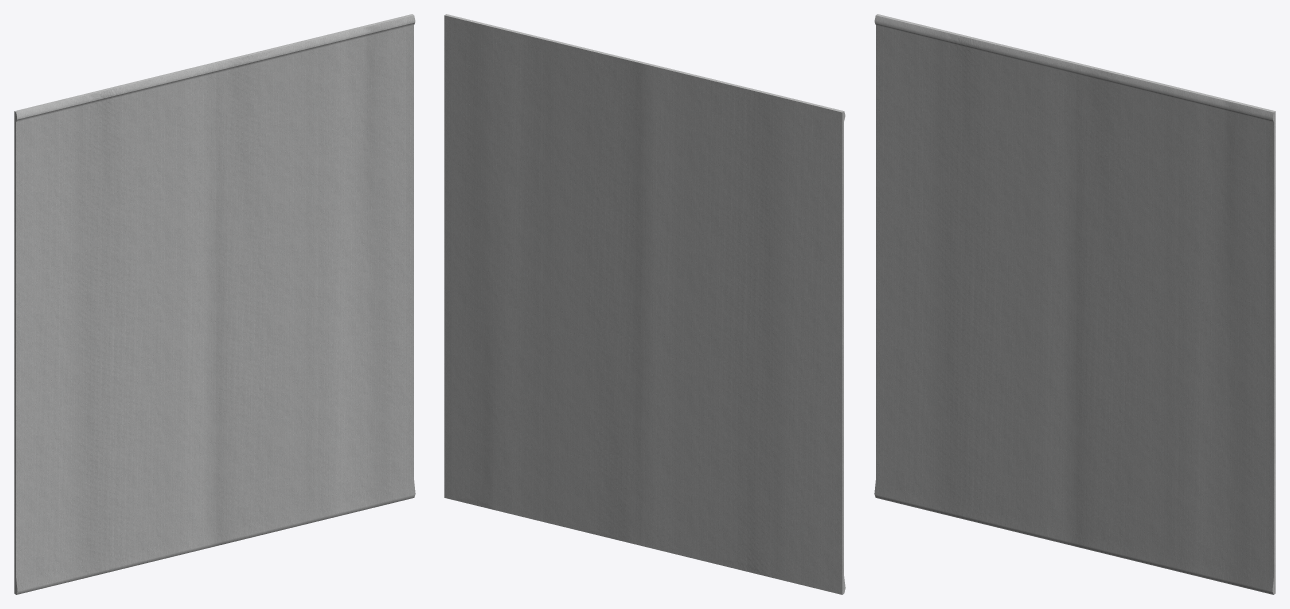
Rendered from GYM_Cover_LG.fbx.
3 renders of one model, left to right at view 1: azimuth 30°, elevation 25°; view 2: azimuth 150°, elevation 25°; view 3: azimuth 330°, elevation 25°, orthographic.
Visible parts, largest first — view 1: GYM_Blinds_LG; view 2: GYM_Blinds_LG; view 3: GYM_Blinds_LG.
Boxes of the visible parts, box(x1,y1,x2,y2) form: GYM_Blinds_LG: box(14, 14, 415, 594); GYM_Blinds_LG: box(444, 14, 845, 594); GYM_Blinds_LG: box(874, 14, 1275, 594).
Size of the model in its own units: 4 by 4.63 by 0.0549.
1 material, 1 textured.
